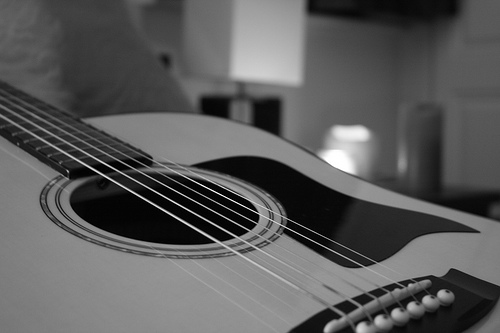guitar: (2, 75, 500, 333)
